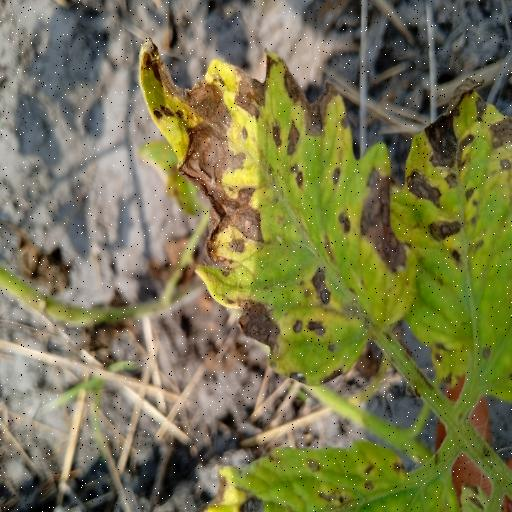Tomato_Brown_Spots: (137, 35, 421, 390), (393, 72, 512, 410)
